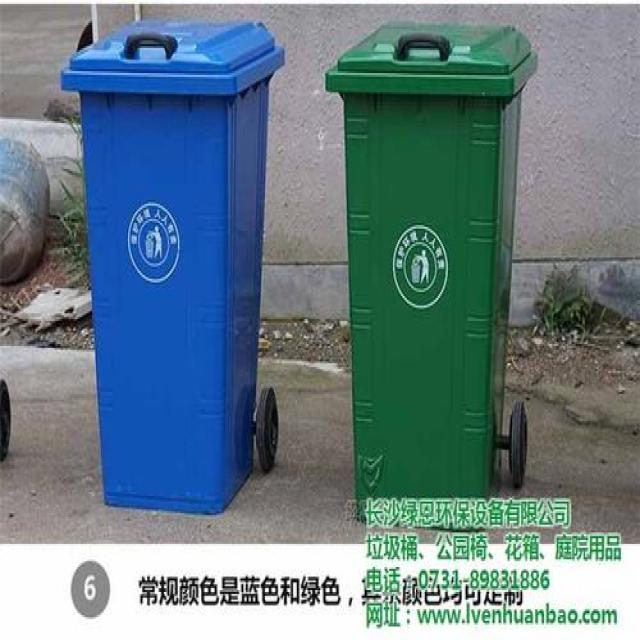garbage_bin: (60, 17, 284, 513), (323, 19, 538, 519)
